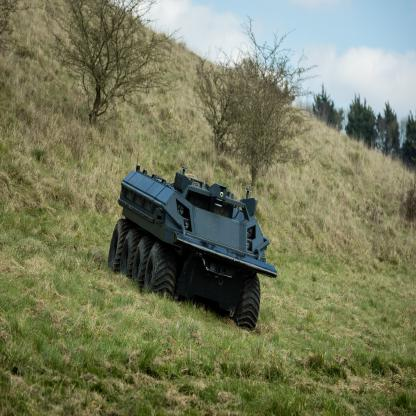UGV: (110, 166, 278, 332)
